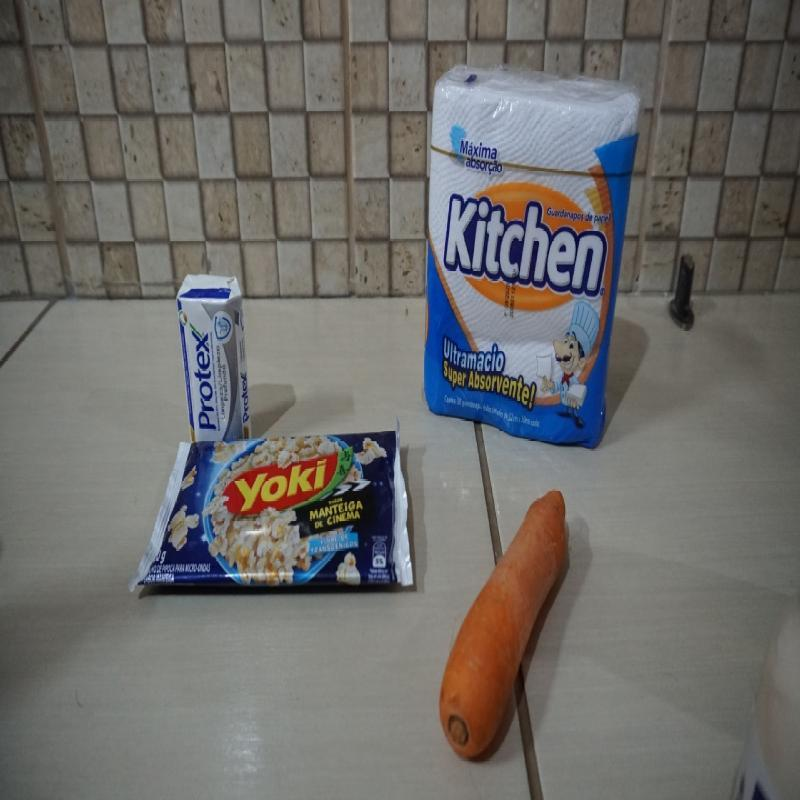Carrot: (439, 485, 568, 766)
Napkin: (423, 61, 639, 449)
Popcorn: (131, 427, 416, 595)
Soap: (176, 273, 255, 444)
